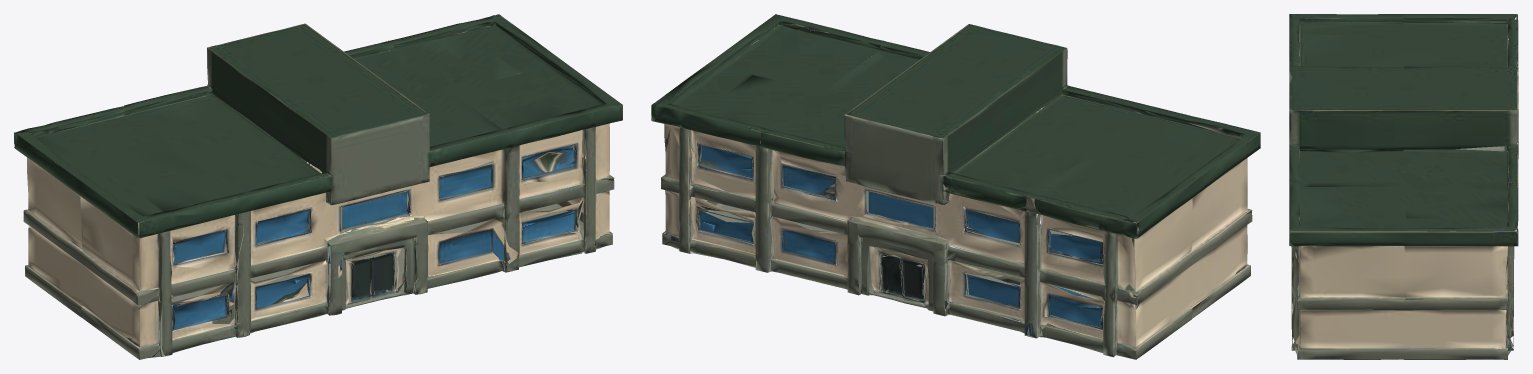
File: grenade-office-low.glb
3 views of the same model, side by side, from view 1: azimuth 30°, elevation 25°; view 2: azimuth 150°, elevation 25°; view 3: azimuth 270°, elevation 25° (orthographic). The views are drawn at different scales.
Bounding box in the file's own units: 0.9497 × 0.3359 × 0.4229.
Materials: 1 (1 with a texture image).
